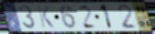1: (99, 4, 114, 31)
2: (117, 4, 139, 31), (77, 5, 97, 29)
3: (18, 5, 37, 30)
6: (58, 5, 77, 30)
K: (35, 5, 56, 30)
